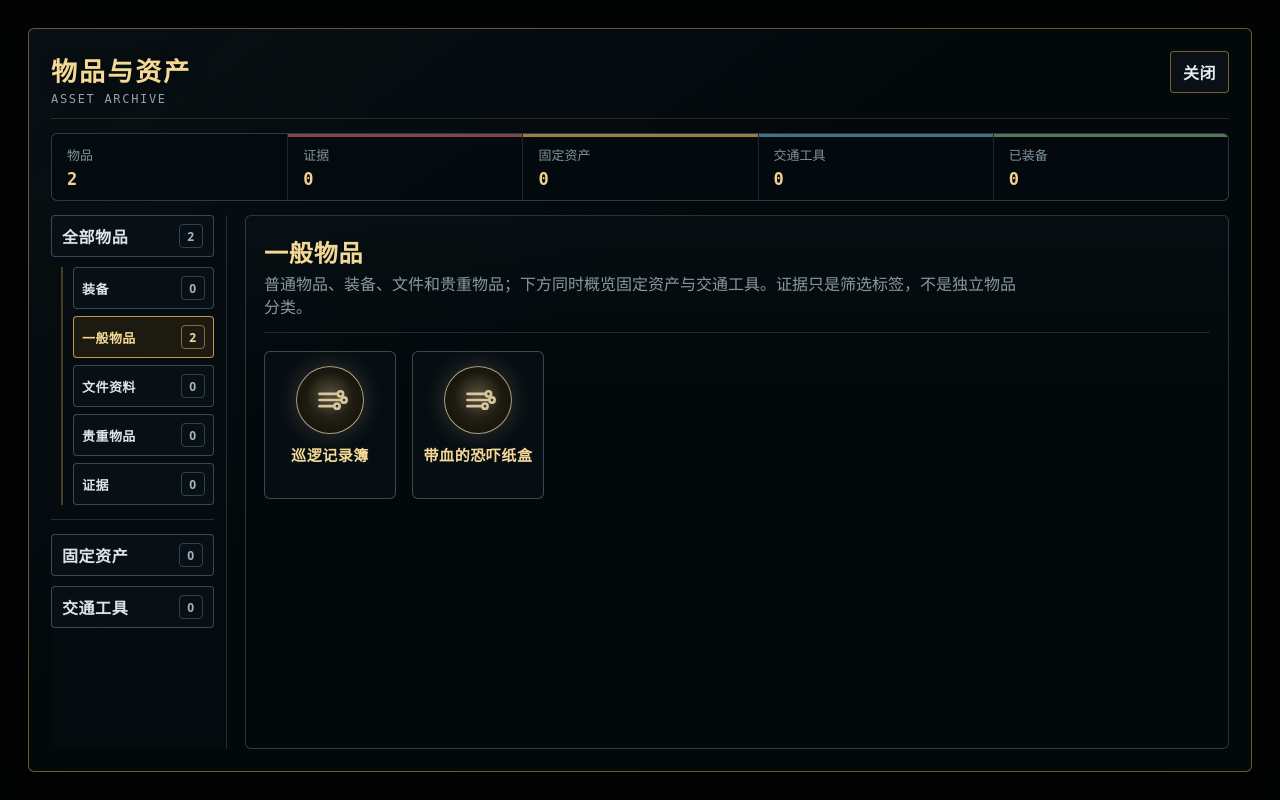
it: AssetArchiveModal › discards a portable item only after explicit confirmation
The width and height of the screenshot is (1280, 800).
Click the button "带血的恐吓纸盒". click: x=478, y=425
box: left=412, top=351, right=544, bottom=499
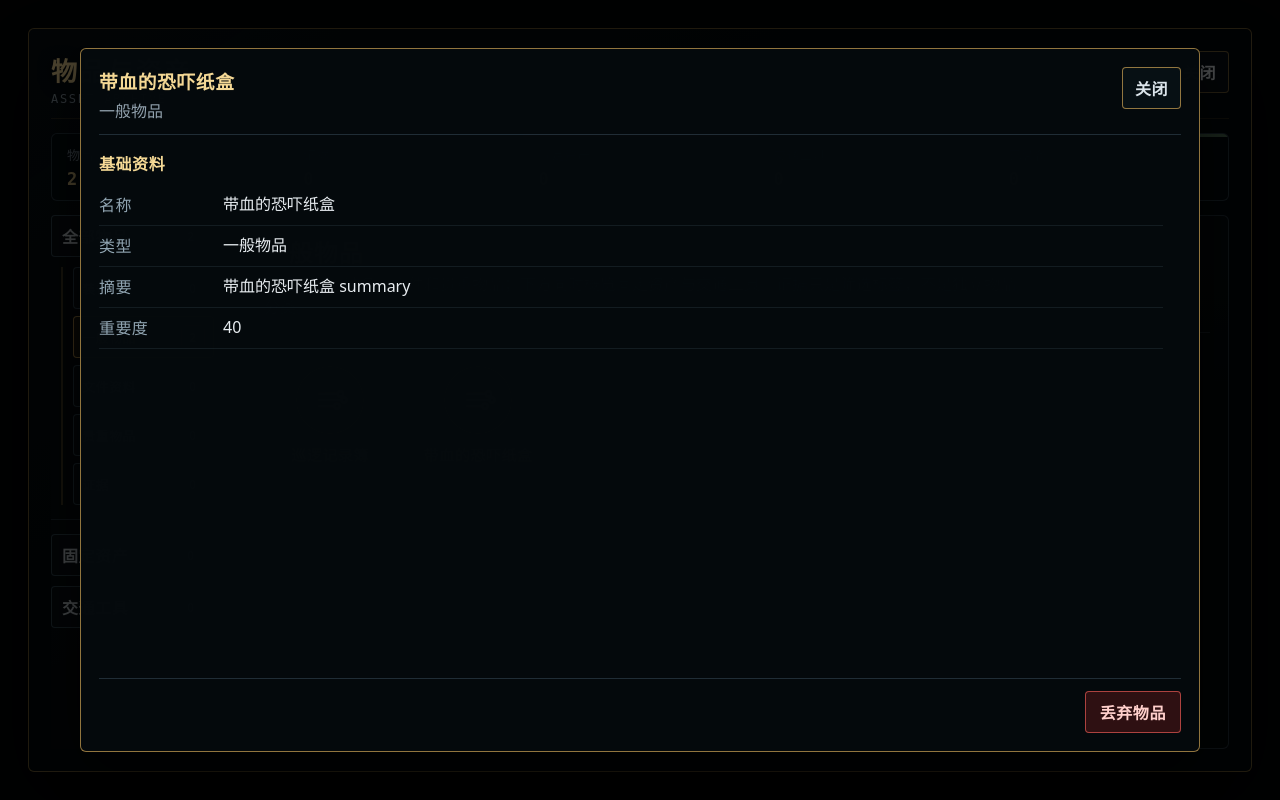
Click the button "丢弃物品". click: x=1133, y=712
box: left=1085, top=691, right=1181, bottom=733
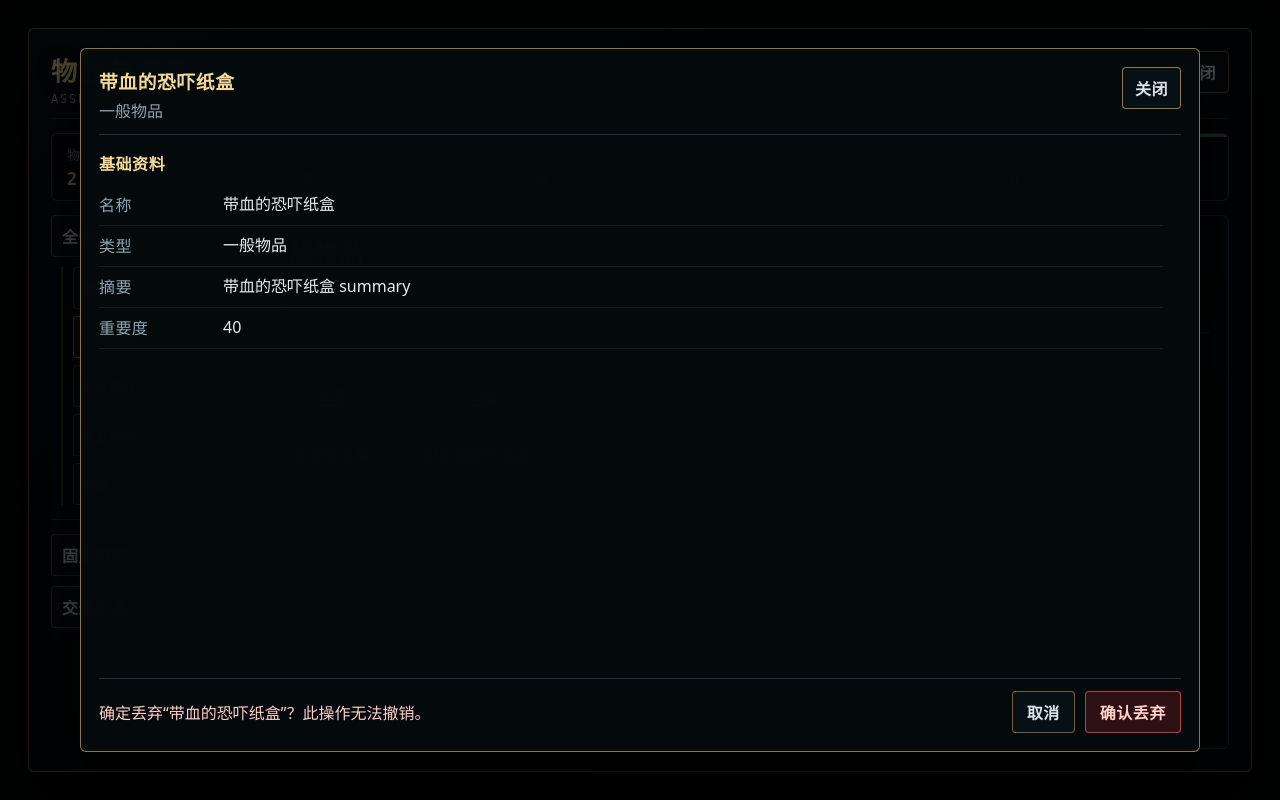
Expected: the text "确定丢弃“带血的恐吓纸盒”？此操作无法撤销。" is shown, left=99, top=700, right=430, bottom=724
Click the button "确认丢弃". click: x=1133, y=712
box: left=1085, top=691, right=1181, bottom=733
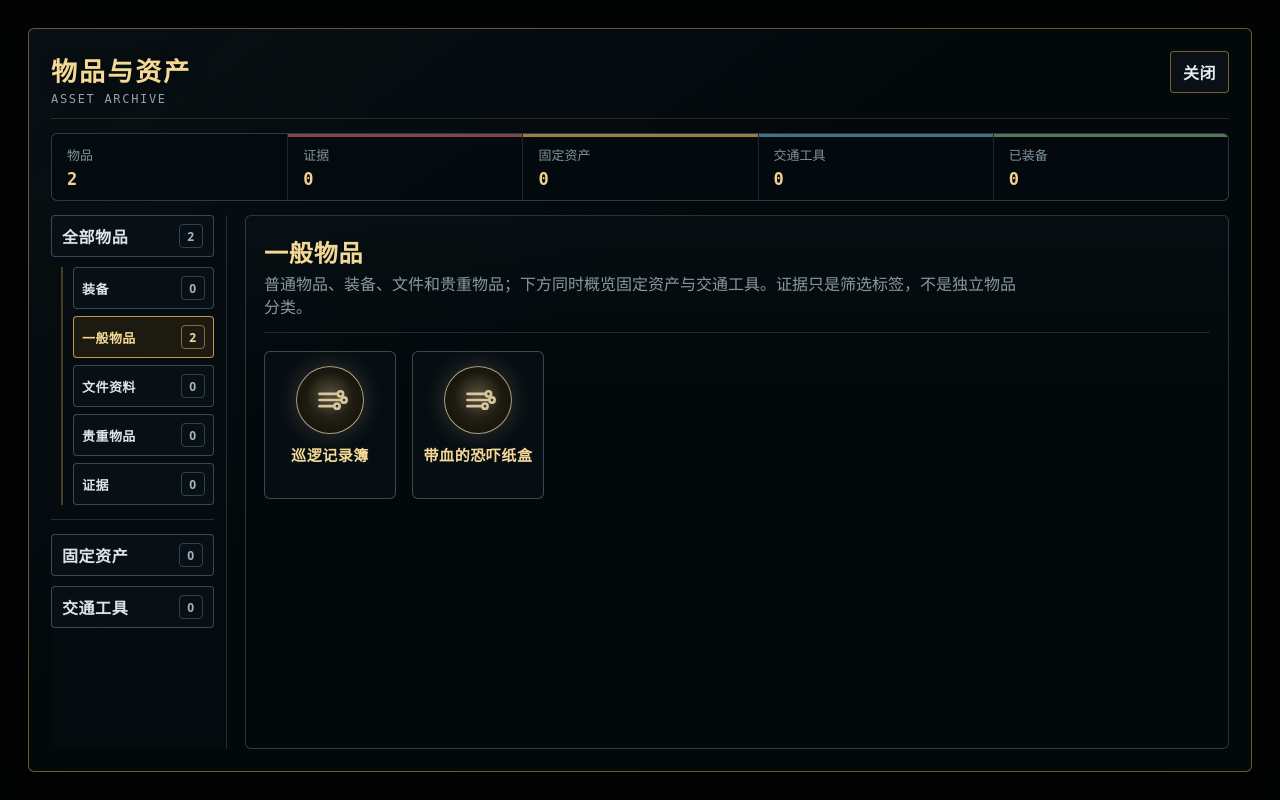
Expected: the dialog "带血的恐吓纸盒详情" is gone
